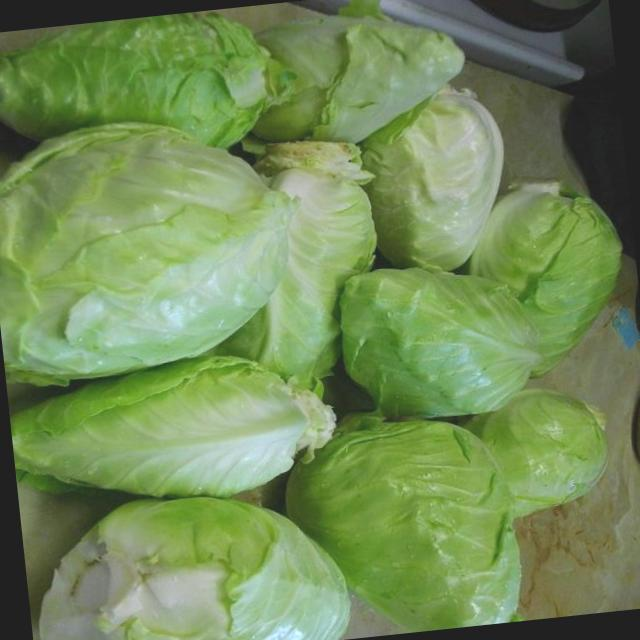cabbage: (0, 117, 302, 391), (281, 412, 538, 640), (6, 354, 348, 514), (0, 6, 299, 167), (29, 491, 346, 640), (228, 121, 388, 401), (334, 242, 538, 432), (466, 176, 640, 378), (263, 0, 483, 141), (365, 89, 516, 276)
